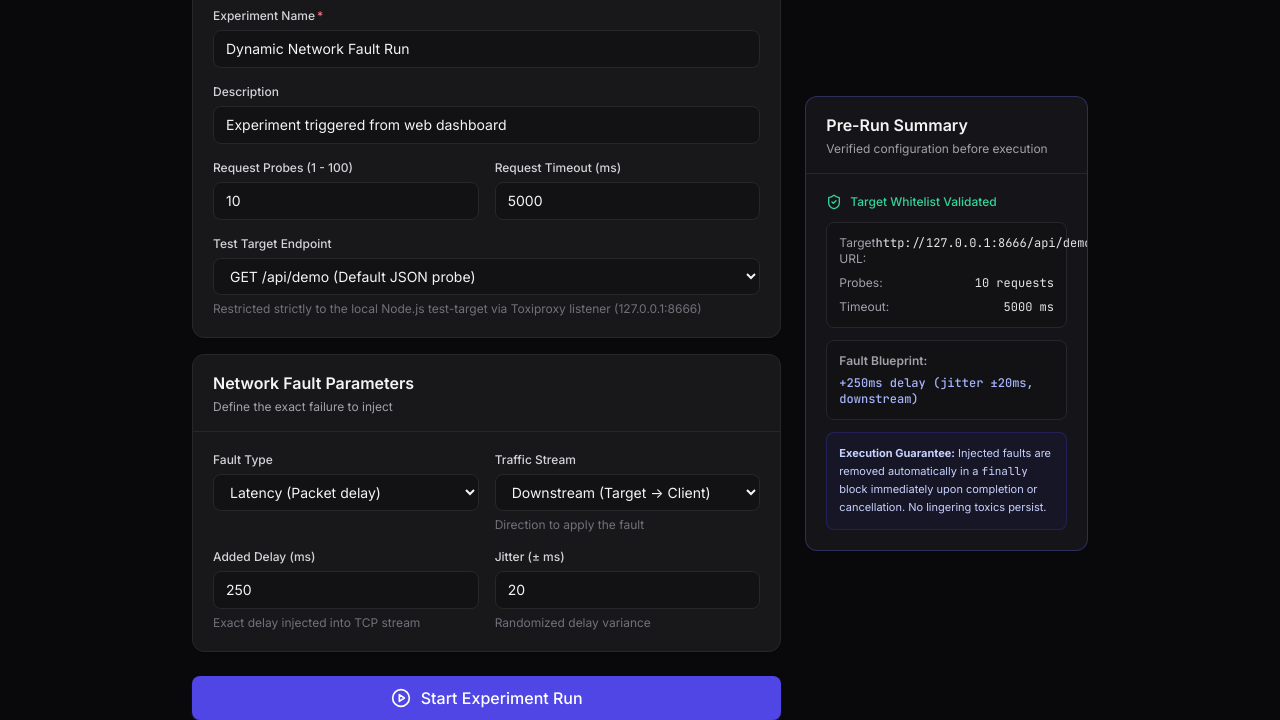
Forms and Validation Suite › updates pre-run summary in real-time when fault parameters change
(page scrolled)
Check: the heading "Pre-Run Summary" is shown, box [826,115,968,135]
Check: the text "+250ms delay (jitter ±20ms, downstream)" is shown, box [839,375,1054,407]
Note: Switch fault type to timeout
Step 1. Select "Timeout (Connection stall)" in the dropdown labelled "Fault Type" → coordinates (346, 492), box [213,474,479,511]
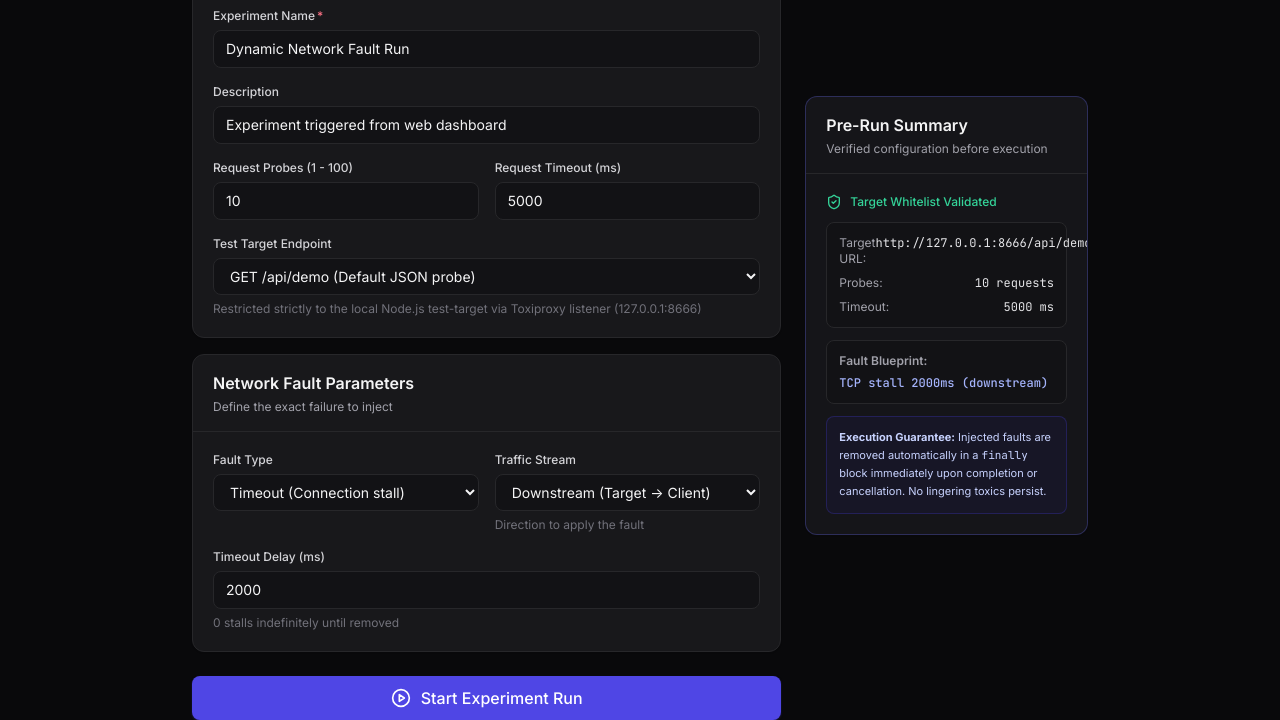
Check: the text "TCP stall 2000ms (downstream)" is shown, box [839,375,1054,391]
